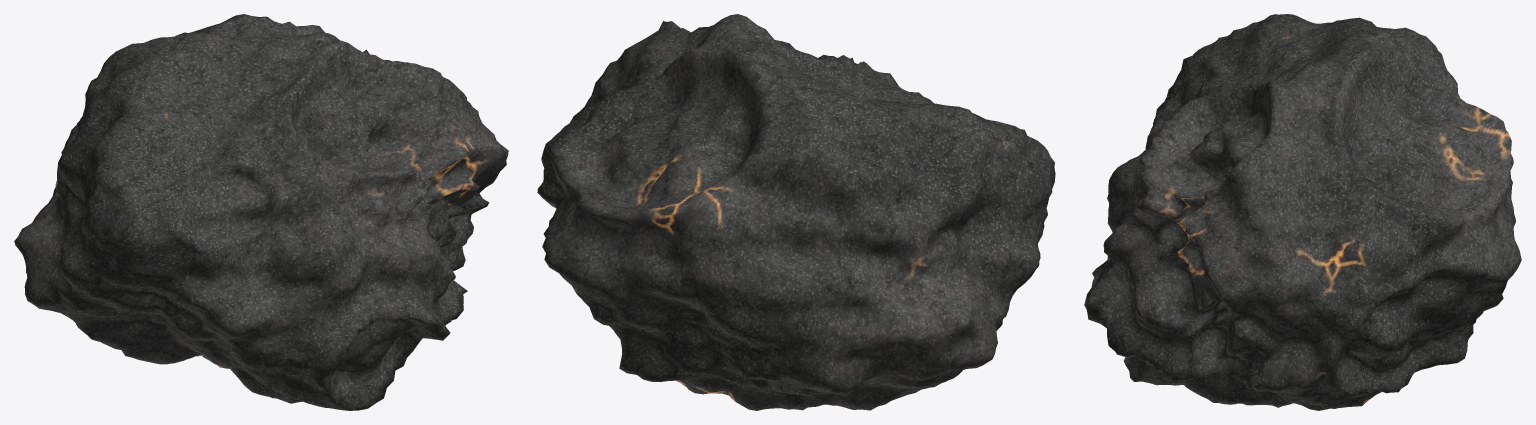
File: asteroid_b.glb
3 views of the same model, side by side, from view 1: azimuth 30°, elevation 25°; view 2: azimuth 150°, elevation 25°; view 3: azimuth 270°, elevation 25° (orthographic). The views are drawn at different scales.
Parts seen in each view (by area): view 1: asteroid_b; view 2: asteroid_b; view 3: asteroid_b.
Part boxes in pixels (x1=…): asteroid_b: x1=14, y1=14, x2=508, y2=410; asteroid_b: x1=537, y1=14, x2=1055, y2=410; asteroid_b: x1=1084, y1=14, x2=1521, y2=410.
Size of the model in its own units: 47.99 by 35.93 by 41.82.
Materials: 1 (1 with a texture image).
